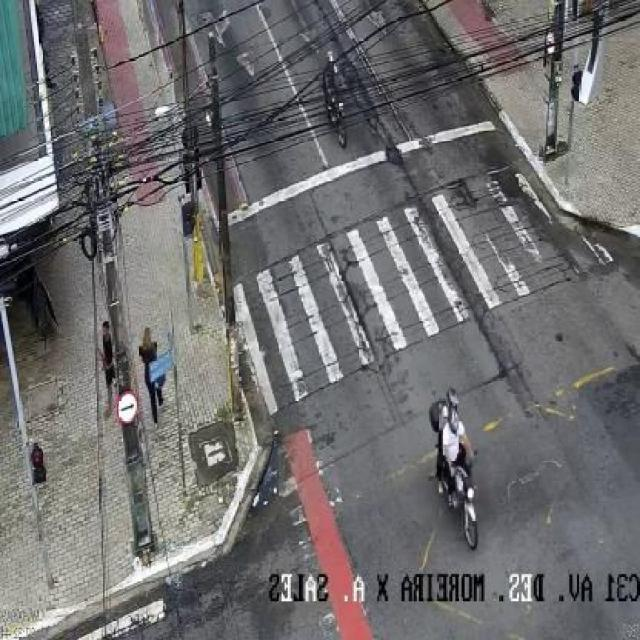Cycle: (411, 380, 504, 547), (307, 49, 368, 150)
